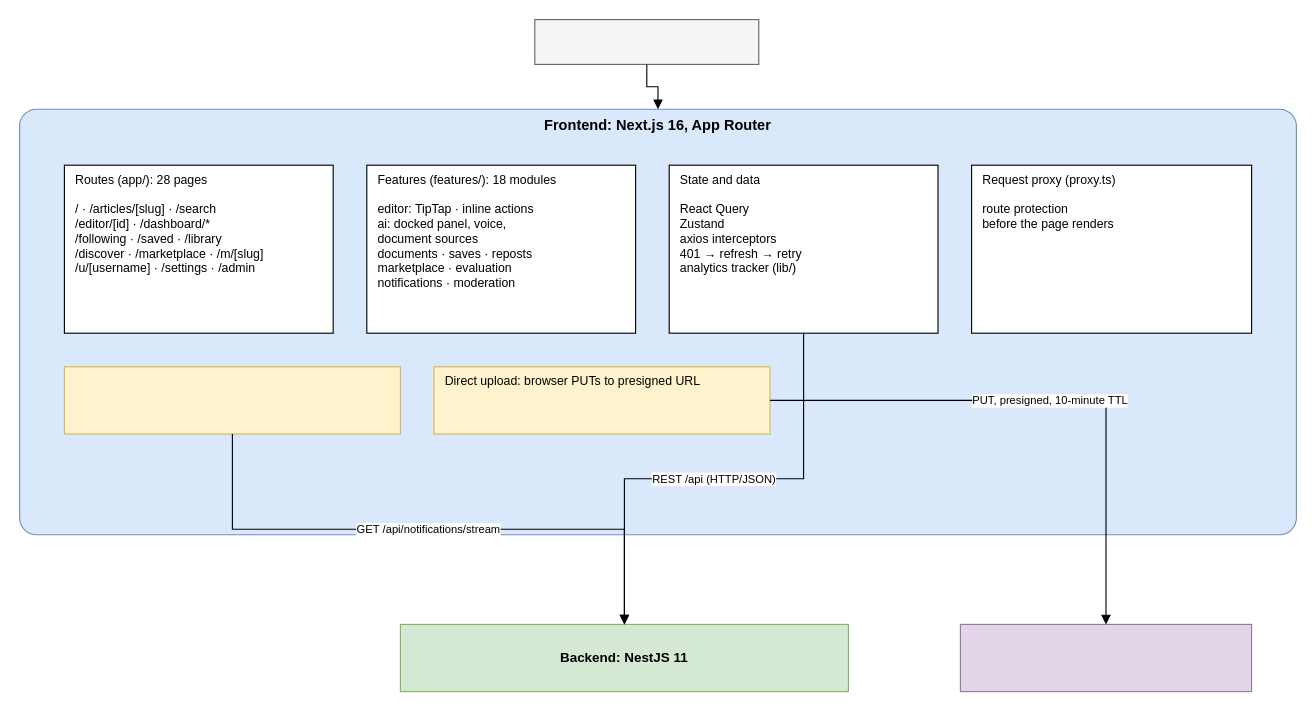
The diagram is 1316 pixels wide and 711 high, and some of its shapes have lost their labels. The shapes that lost their labels are listed below. From the top down, each one's box as (x1, y1, x2, y2) in pixels, then its label:
(534, 18, 759, 64): Browser
(63, 366, 400, 434): SSE client: EventSource, live notifications
(959, 623, 1252, 692): Object storage: MinIO
